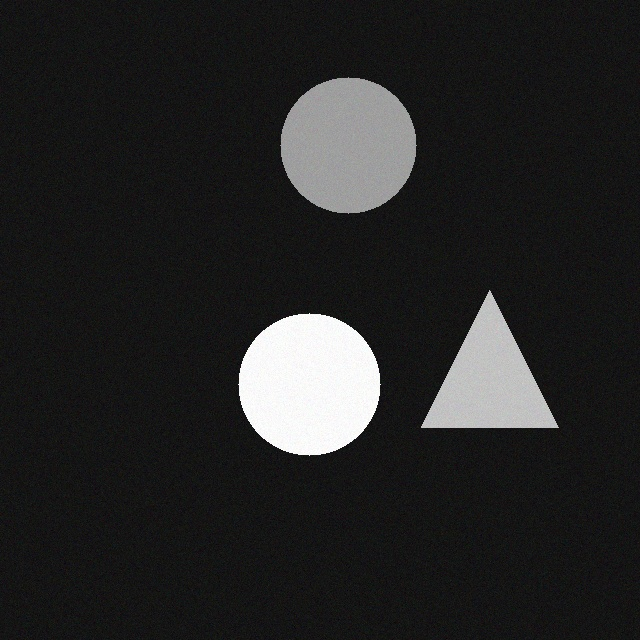circle: (248, 303, 390, 445), (290, 67, 426, 203)
triangle: (431, 280, 568, 417)
